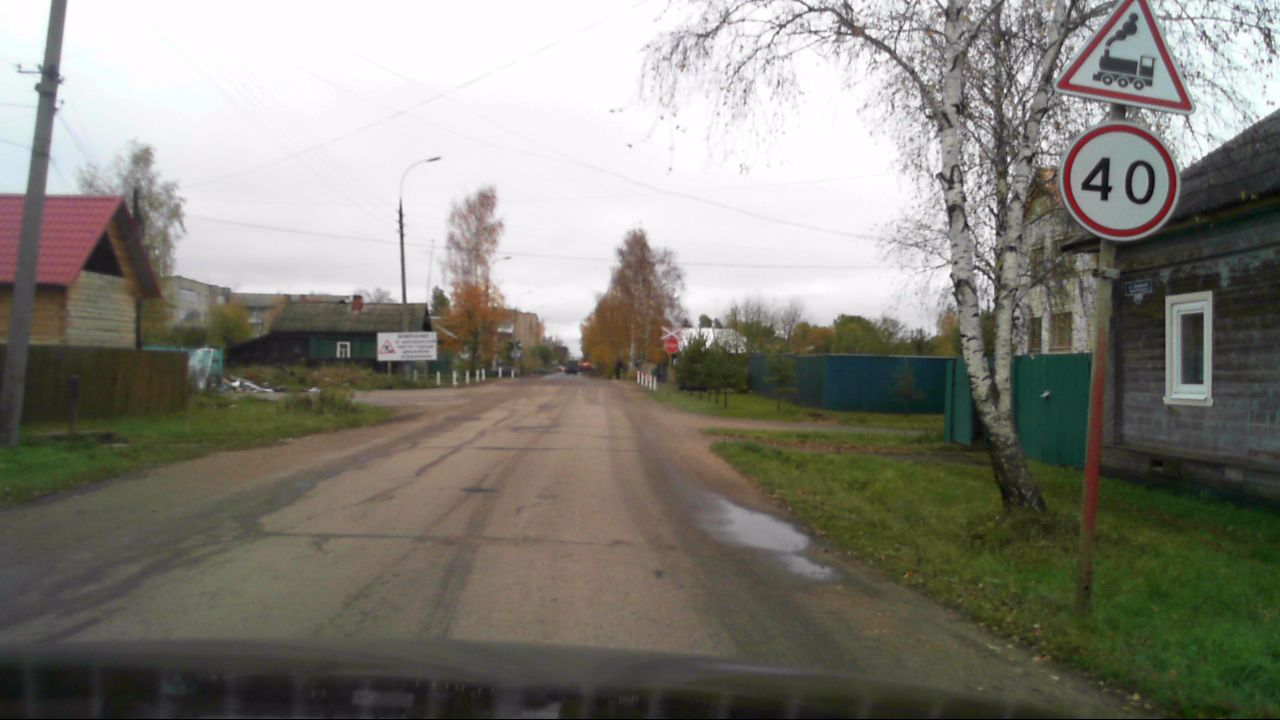speed_warning_40: (1062, 121, 1181, 249)
